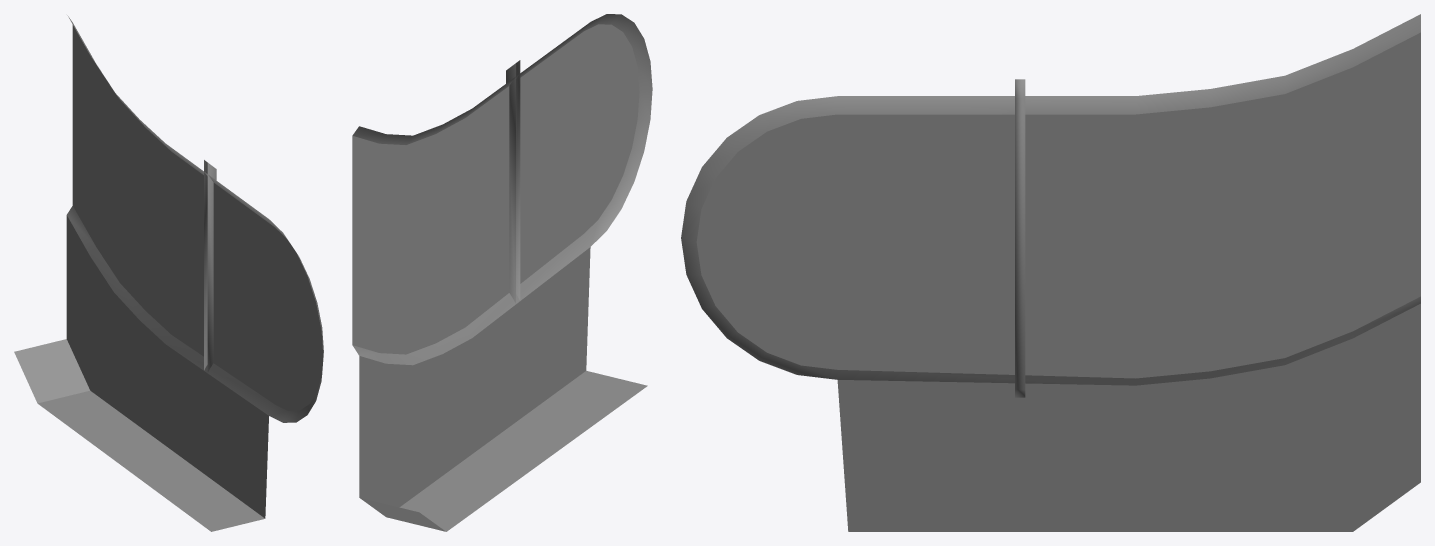
The model's file is SW_ENV_Escalator_BottomSteps_Connector_Endcap.fbx.
3 views of the same model, side by side, from view 1: azimuth 30°, elevation 25°; view 2: azimuth 150°, elevation 25°; view 3: azimuth 270°, elevation 25° (orthographic). The views are drawn at different scales.
Parts seen in each view (by area): view 1: SW_ENV_Escalator_BottomSteps_Connector_Endcap; view 2: SW_ENV_Escalator_BottomSteps_Connector_Endcap; view 3: SW_ENV_Escalator_BottomSteps_Connector_Endcap.
Part boxes in pixels (x1,y1,x2,y2): SW_ENV_Escalator_BottomSteps_Connector_Endcap: (14,15,323,531); SW_ENV_Escalator_BottomSteps_Connector_Endcap: (352,14,652,531); SW_ENV_Escalator_BottomSteps_Connector_Endcap: (681,14,1420,531).
Bounding box in the file's own units: 0.2108 × 1.15 × 1.49.
